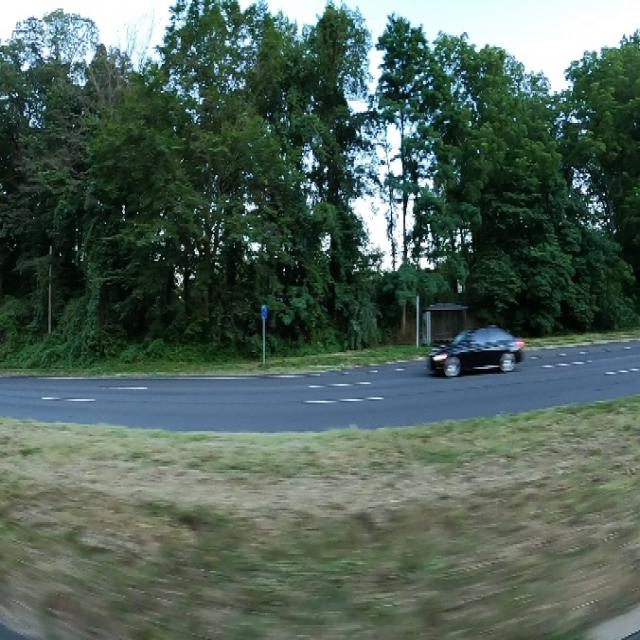cars: (426, 319, 534, 387)
